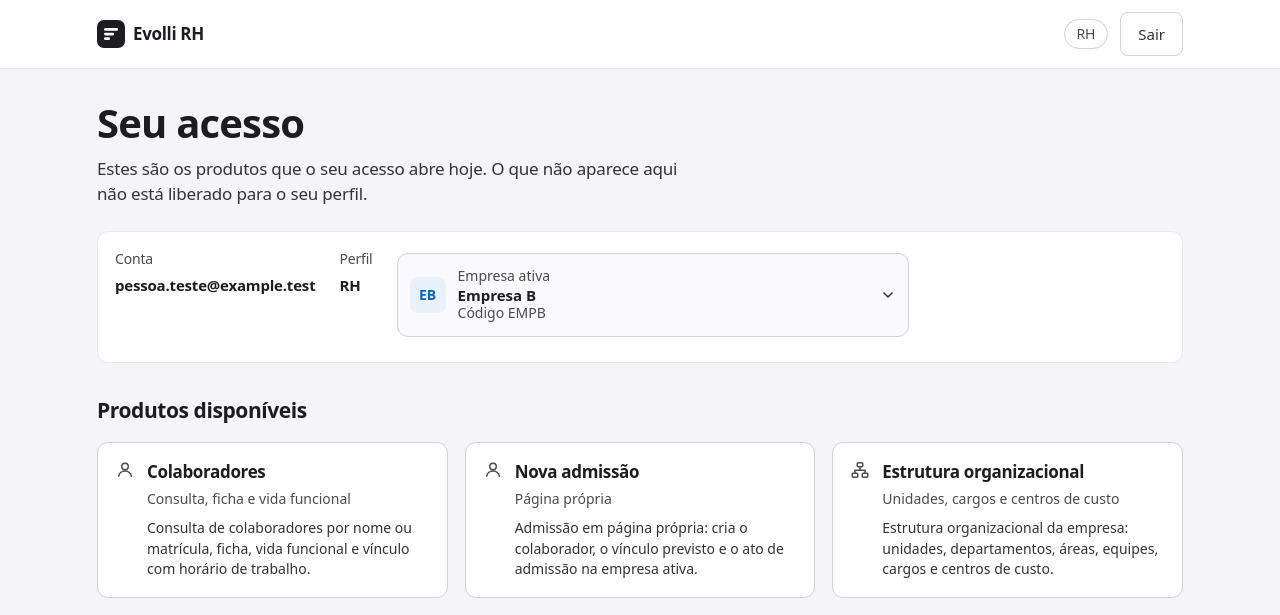
Test: T163/T189 — a troca passa pelo servidor, e nada nela é otimista › troca recusada pelo servidor avisa, e NÃO finge que trocou
The image size is (1280, 615).
Click the button "EB Empresa ativa Empresa B Código EMPB". click: (428, 295)
box: [396, 253, 908, 337]
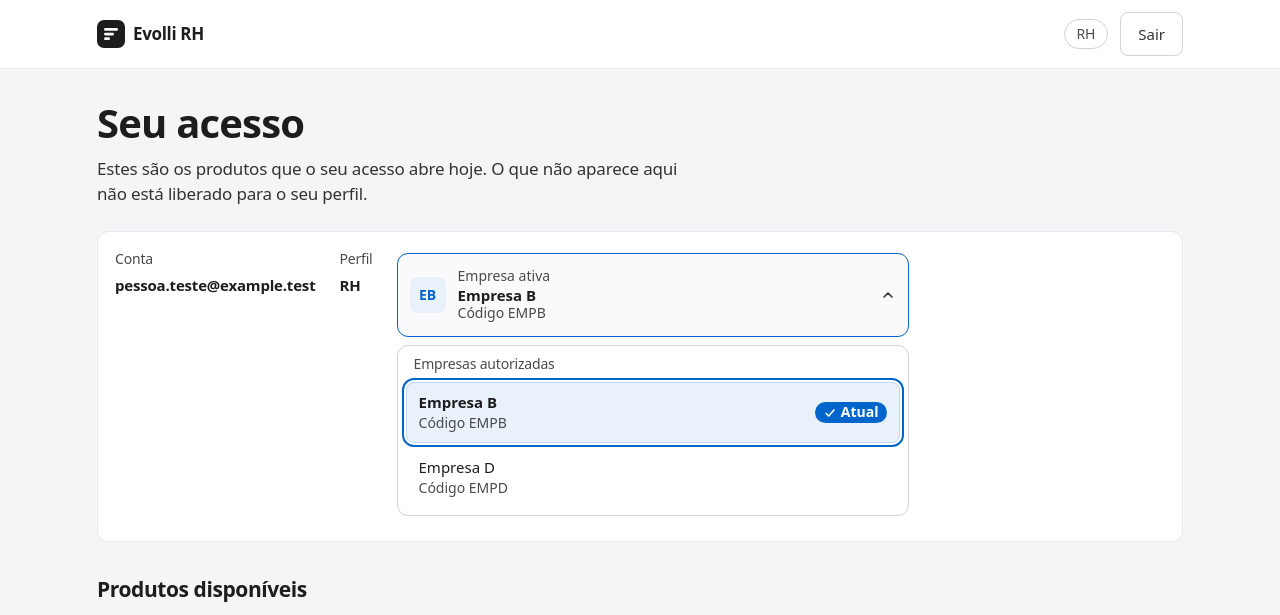
Expected: the list named "Empresas autorizadas" is shown, [406, 382, 900, 508]
Click the button "Empresa D Código EMPD". click: (457, 467)
box: [406, 447, 900, 507]
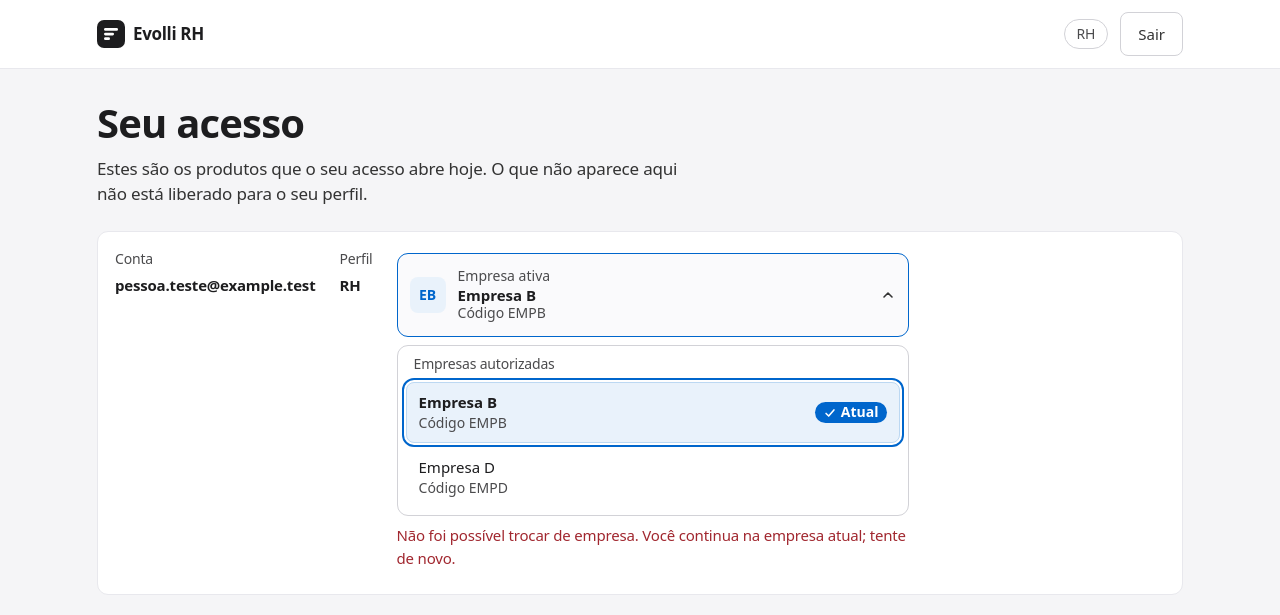
Expected: the message shows "Não foi possível trocar de empresa", [396, 526, 906, 568]
